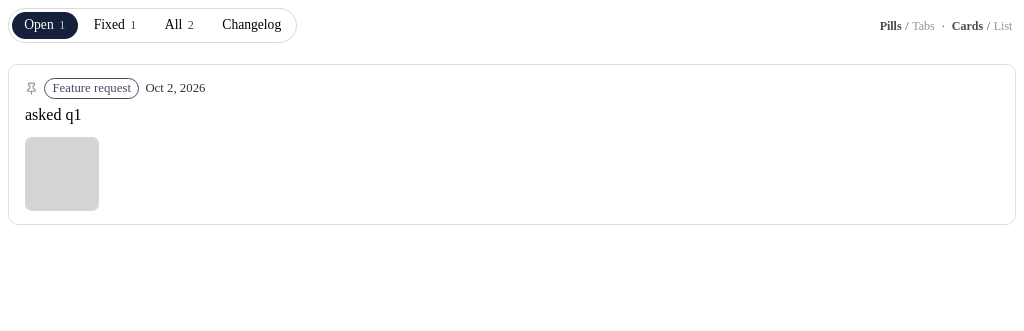
Test: ShipcueBoard › has Open / Fixed / All / Changelog tabs, and shows screenshots
This screenshot has width=1024, height=331.
Check: the tab with aria-label "Fixed 1" is shown, box left=82, top=12, right=149, bottom=39
Check: the text "asked c1" is not shown
Click the tab with aria-label "All 2" at {"x": 179, "y": 26}, box left=153, top=12, right=206, bottom=39
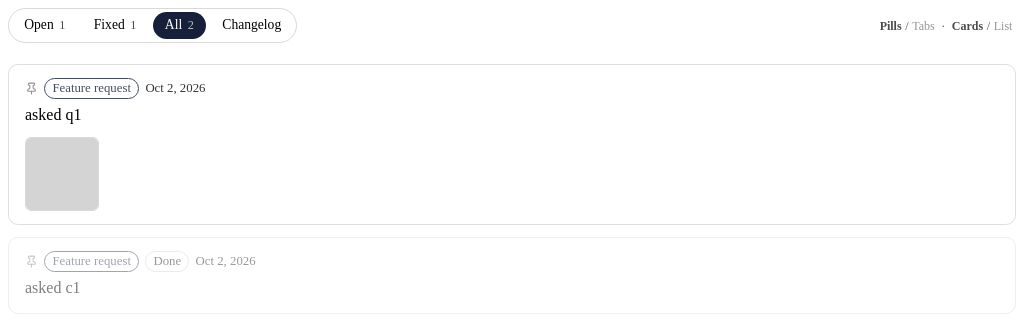
Check: the text "asked q1" is shown, box left=25, top=106, right=81, bottom=123
Check: the text "asked c1" is shown, box left=25, top=279, right=80, bottom=296
Click the tab "Changelog" at {"x": 252, "y": 26}, box left=210, top=12, right=294, bottom=39
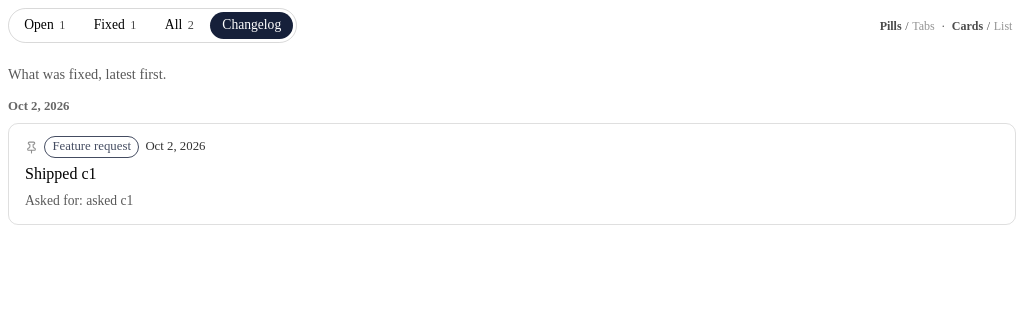
Check: the text "Shipped c1" is shown, box left=25, top=165, right=96, bottom=182
